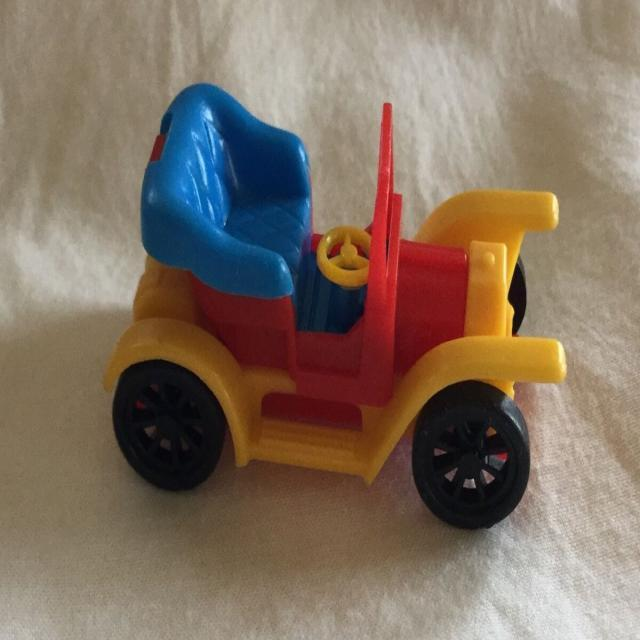hard-toy: (105, 85, 567, 529)
